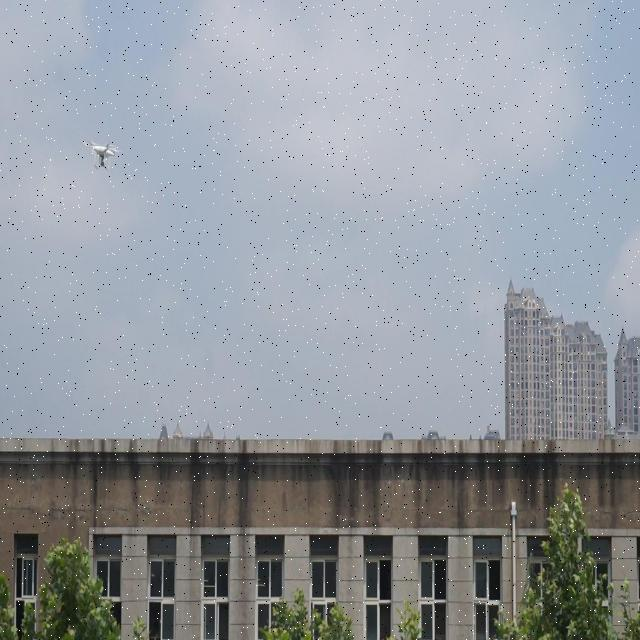UAV: (83, 140, 121, 172)
